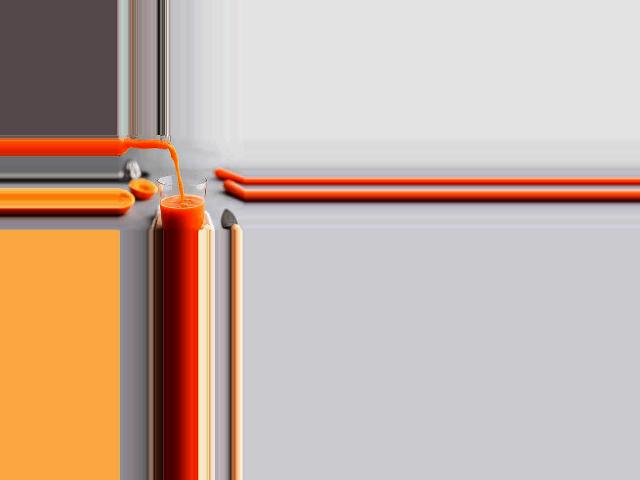carrot: (213, 170, 244, 203)
